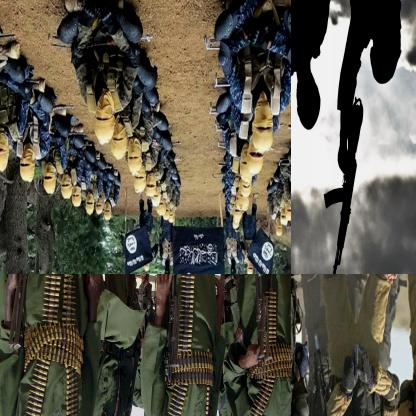rifle: (323, 100, 369, 273), (151, 274, 191, 386), (236, 274, 277, 369), (2, 274, 43, 359), (48, 26, 157, 54)
